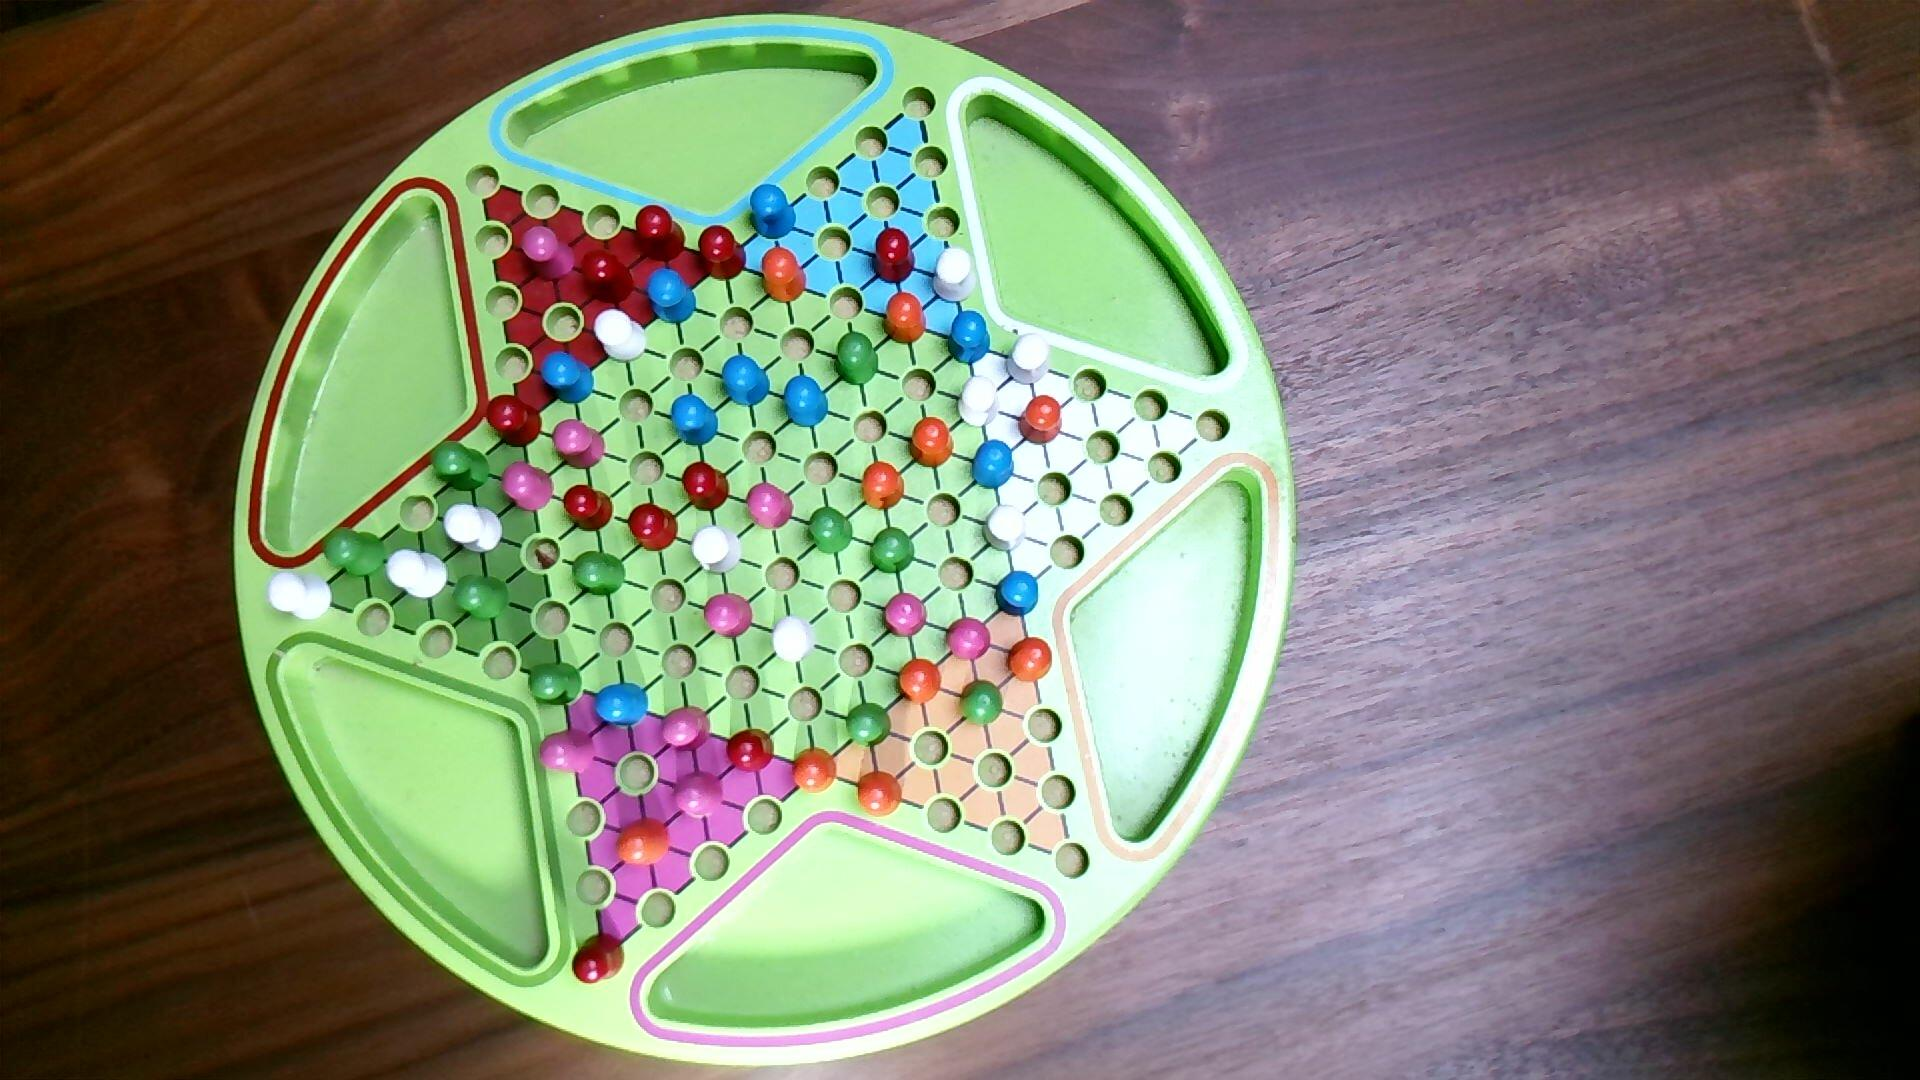B: (541, 351, 596, 406), (646, 266, 698, 326), (749, 183, 798, 241), (670, 393, 720, 448), (721, 353, 771, 409), (593, 682, 650, 731), (947, 309, 992, 367), (783, 375, 829, 430), (971, 438, 1015, 491), (994, 570, 1040, 618)
G: (320, 526, 386, 579), (430, 440, 491, 493), (452, 574, 512, 622), (572, 551, 628, 599), (527, 662, 584, 708), (835, 330, 880, 386), (869, 526, 916, 575), (808, 506, 855, 555), (959, 679, 1005, 728), (847, 702, 893, 749)
O: (615, 816, 673, 869), (762, 247, 808, 305), (910, 417, 956, 469), (884, 291, 927, 345), (856, 771, 905, 819), (862, 462, 906, 513), (1019, 396, 1063, 447), (793, 746, 837, 795), (898, 658, 943, 707), (1007, 637, 1054, 683)
R: (487, 393, 545, 448), (634, 204, 688, 264), (580, 249, 636, 306), (572, 932, 626, 986), (698, 225, 748, 282), (626, 502, 680, 554), (560, 483, 616, 533), (872, 227, 916, 287), (680, 460, 732, 513), (727, 728, 775, 775)
R2: (520, 225, 578, 282), (551, 419, 608, 471), (538, 727, 597, 775), (501, 462, 556, 513), (673, 770, 727, 822), (659, 705, 713, 754), (745, 483, 796, 531), (704, 592, 754, 640), (944, 616, 993, 663), (881, 592, 928, 640)
W: (266, 570, 335, 622), (385, 549, 451, 601), (443, 502, 505, 555), (593, 309, 647, 365), (690, 524, 744, 578), (931, 247, 980, 305), (1005, 332, 1052, 386), (957, 375, 1002, 429), (771, 615, 818, 666), (982, 504, 1029, 554)
